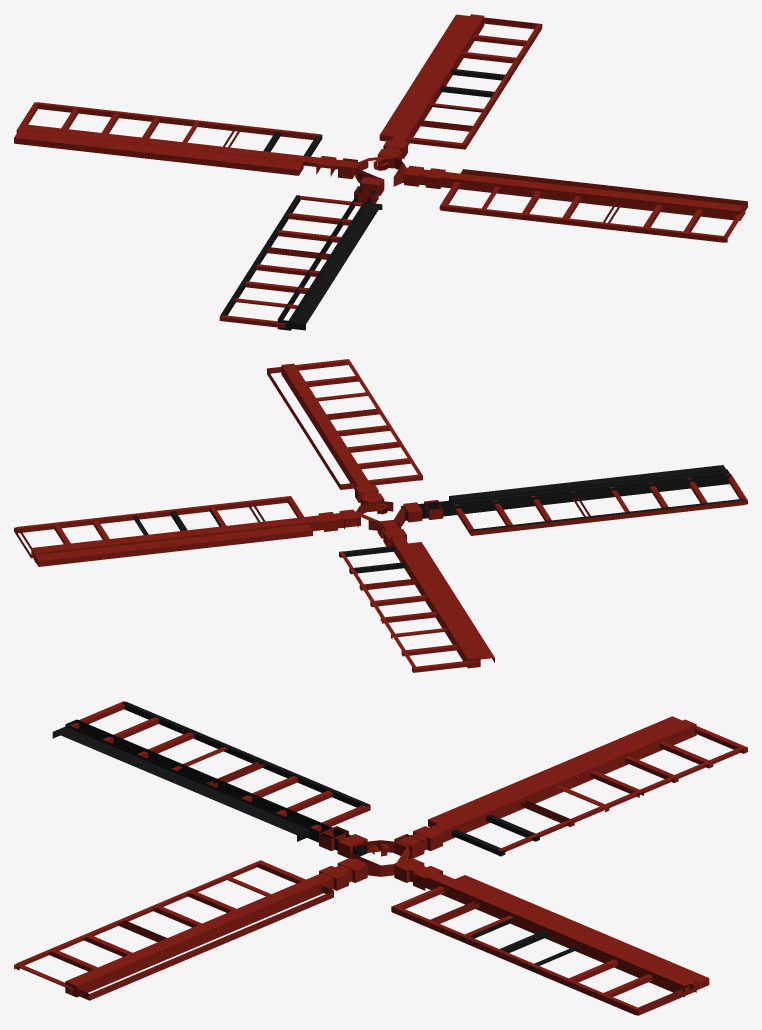
The model's file is windmill_rotor.obj.
The picture shows the model from 3 angles, top to bottom: view 1: azimuth 30°, elevation 25°; view 2: azimuth 150°, elevation 25°; view 3: azimuth 270°, elevation 25°; orthographic projection. The views are drawn at different scales.
Visible parts, largest first — view 1: windmill_rotor; view 2: windmill_rotor; view 3: windmill_rotor.
Boxes of the visible parts, x1,y1,x2,y2 form: windmill_rotor: (14, 14, 747, 330); windmill_rotor: (14, 359, 747, 672); windmill_rotor: (14, 701, 747, 1015).
Size of the model in its own units: 586 by 15.5 by 586.
